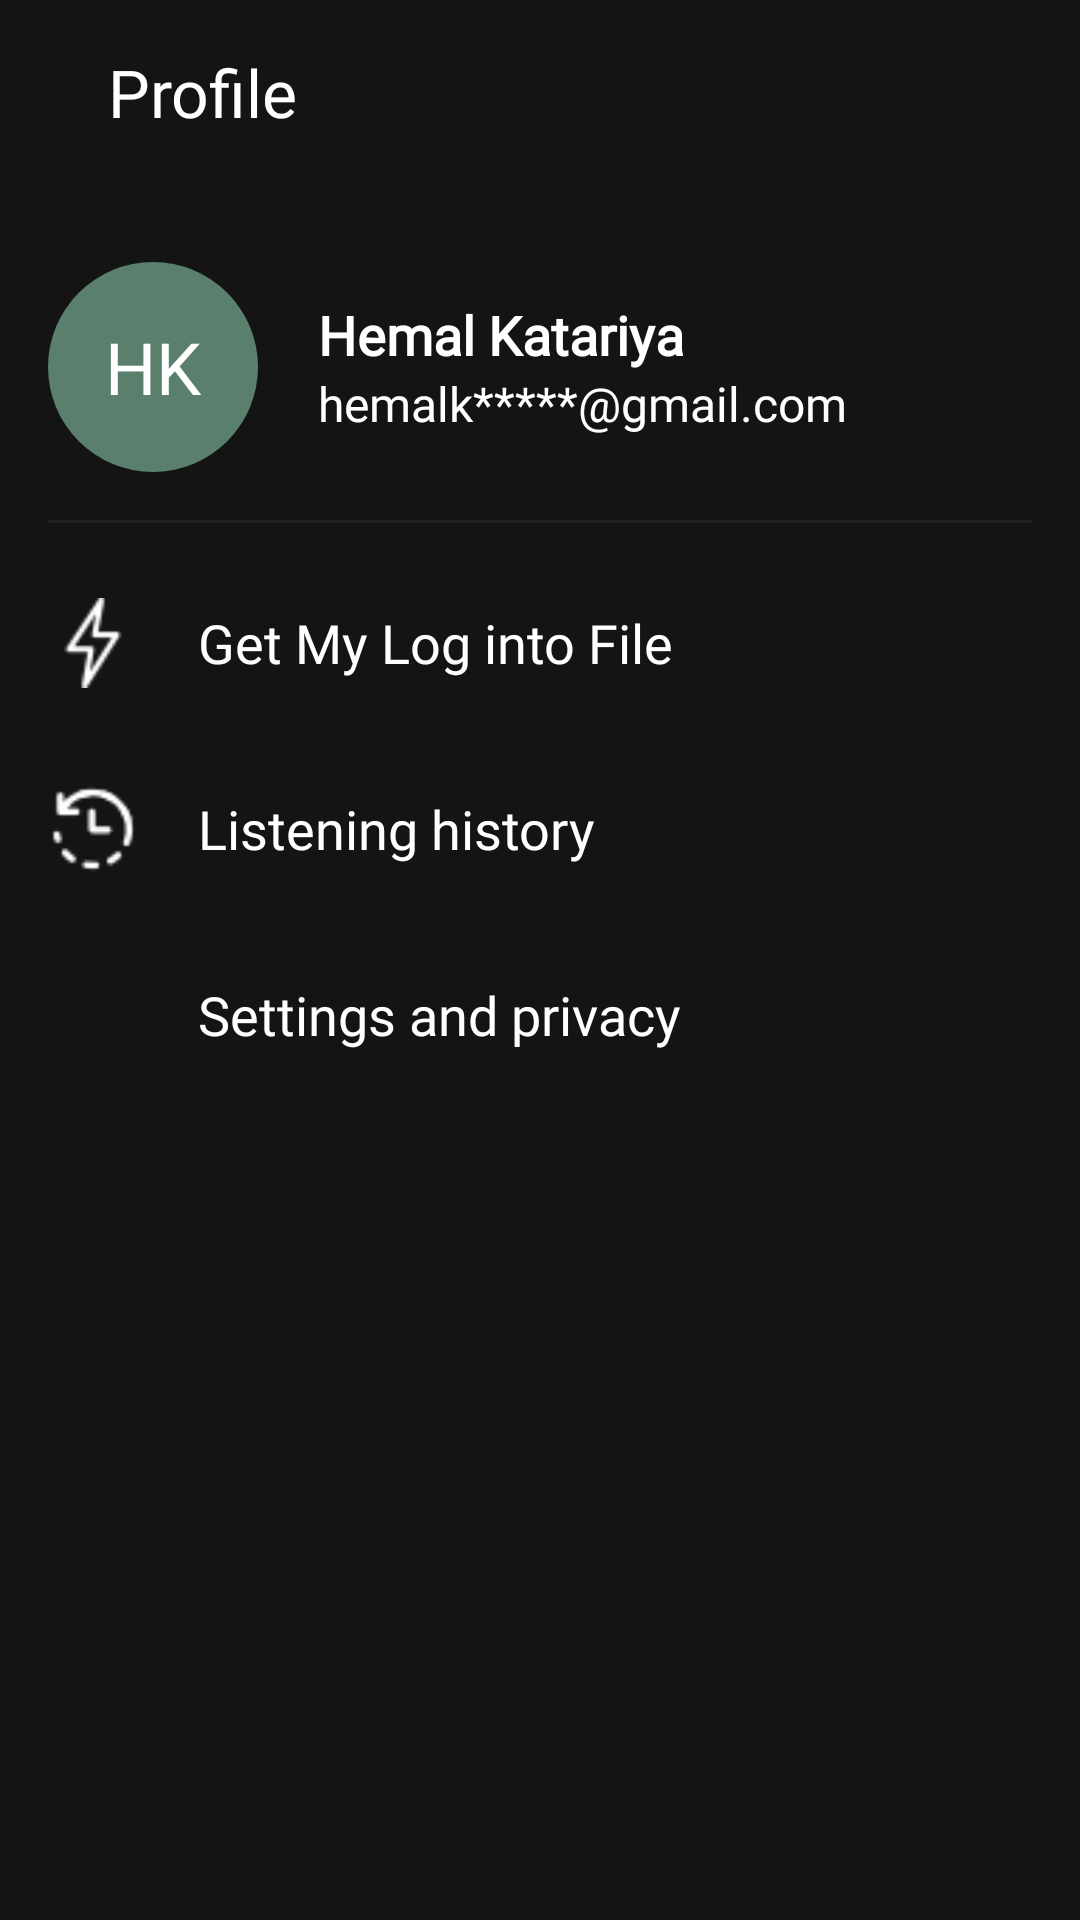

Screen size 1080px x 1920px. Icon name, then its box in pixels as (x1, y1, x2, y2):
thunder: (64, 598, 122, 688)
